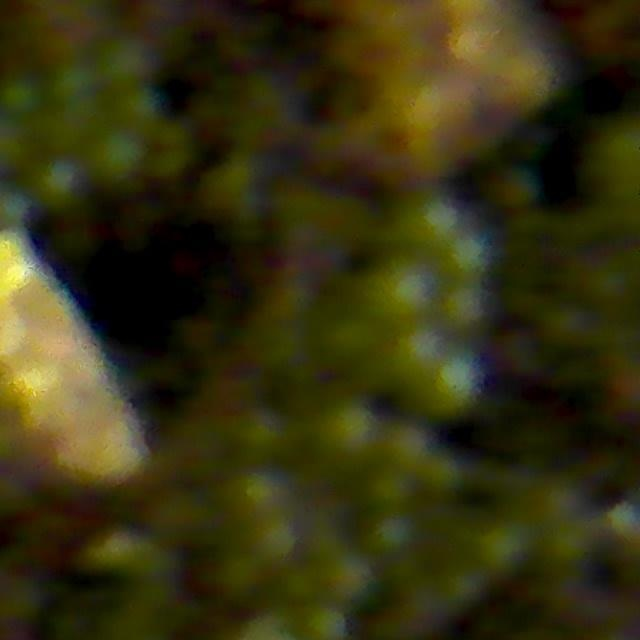SeaGrape: (373, 260, 436, 325), (317, 402, 381, 463), (87, 127, 145, 183), (99, 33, 156, 87), (442, 282, 491, 331), (113, 85, 160, 132), (0, 74, 46, 122), (368, 466, 414, 513), (51, 59, 97, 104), (302, 604, 350, 640)
